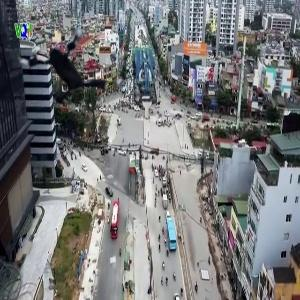drone: (11, 1, 135, 125)
